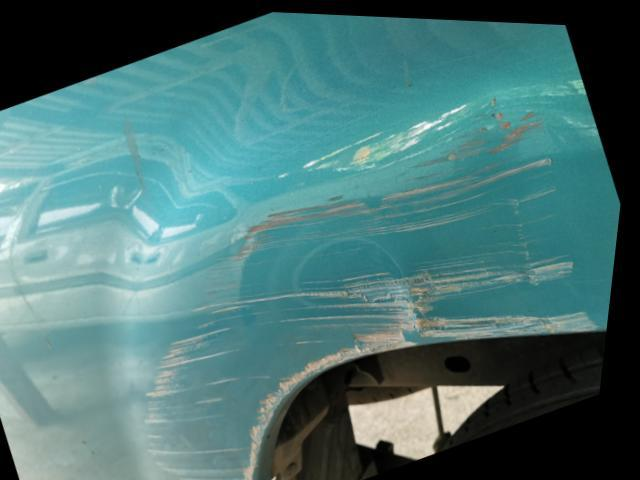scratch: (158, 98, 607, 480)
